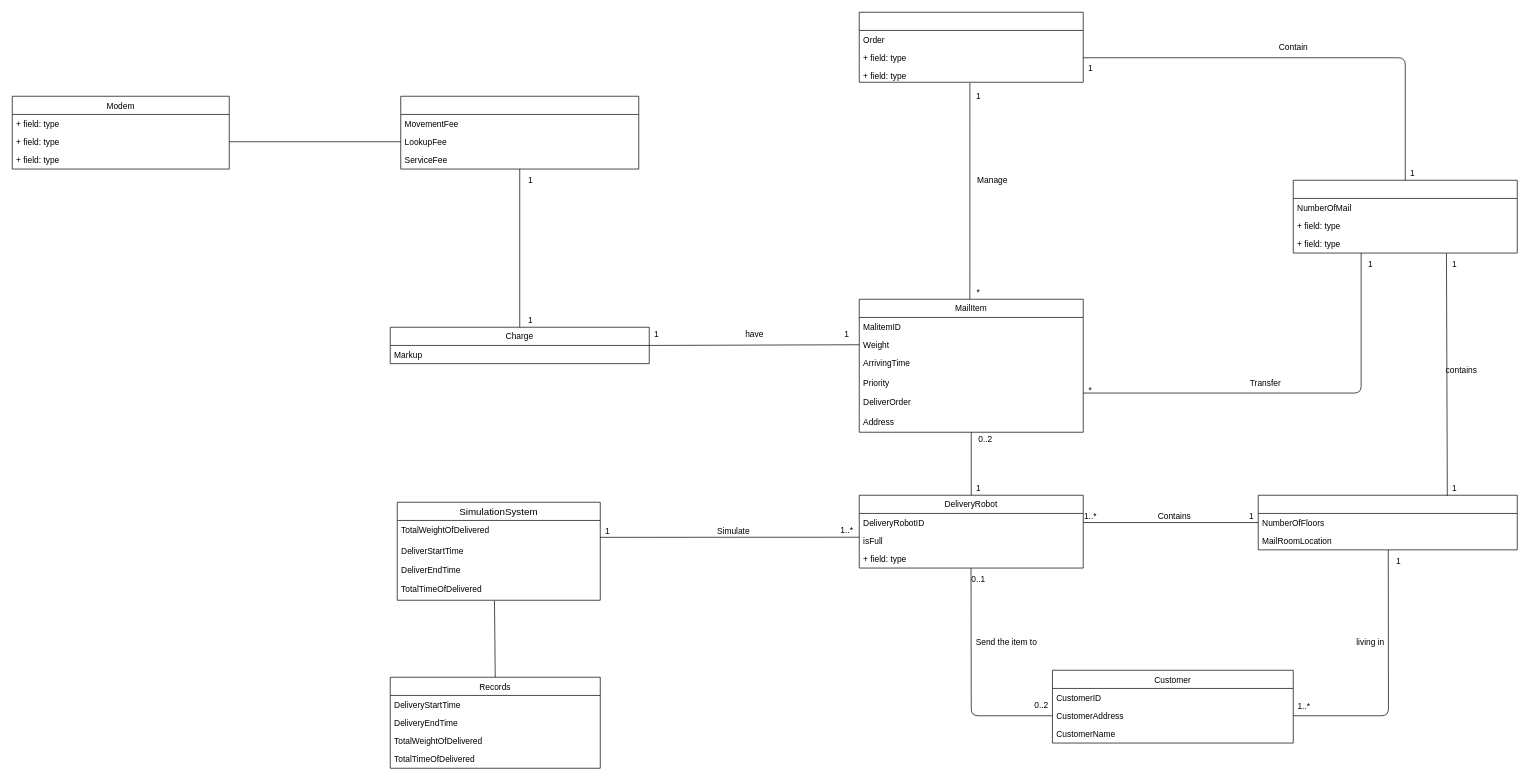
Image size: 1530x783. Some labels were removed from this diagram. Here are the shapes that lost their labels. From the top down, the box of each, then its label:
(859, 12, 1083, 82): MailPoolSystem
(400, 96, 639, 169): Cost
(1293, 180, 1517, 253): MailRoom
(1258, 495, 1517, 550): Building
